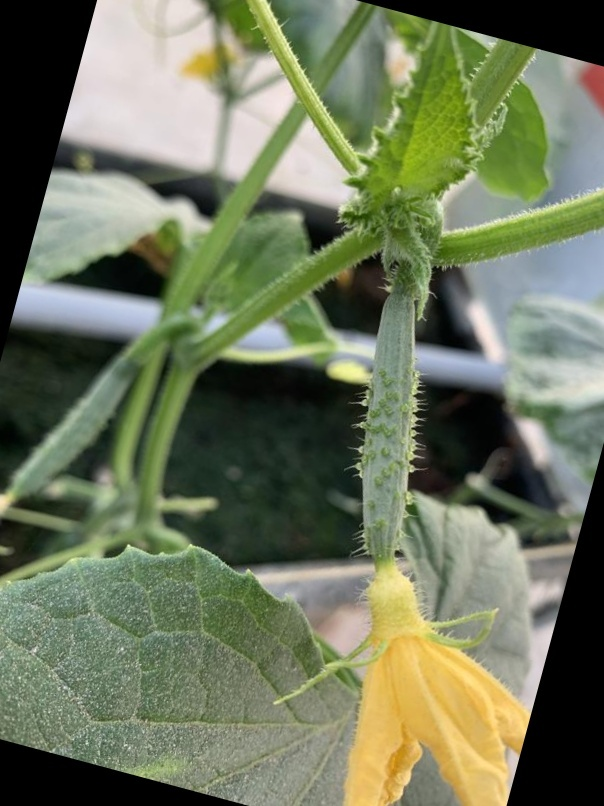bear: (345, 276, 490, 748)
